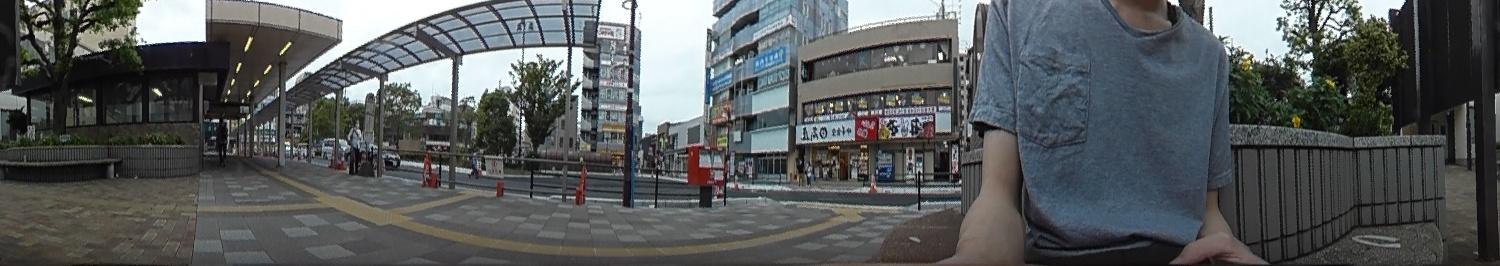difficult_person: (213, 114, 230, 163), (467, 149, 479, 179)
person: (347, 117, 364, 173)
